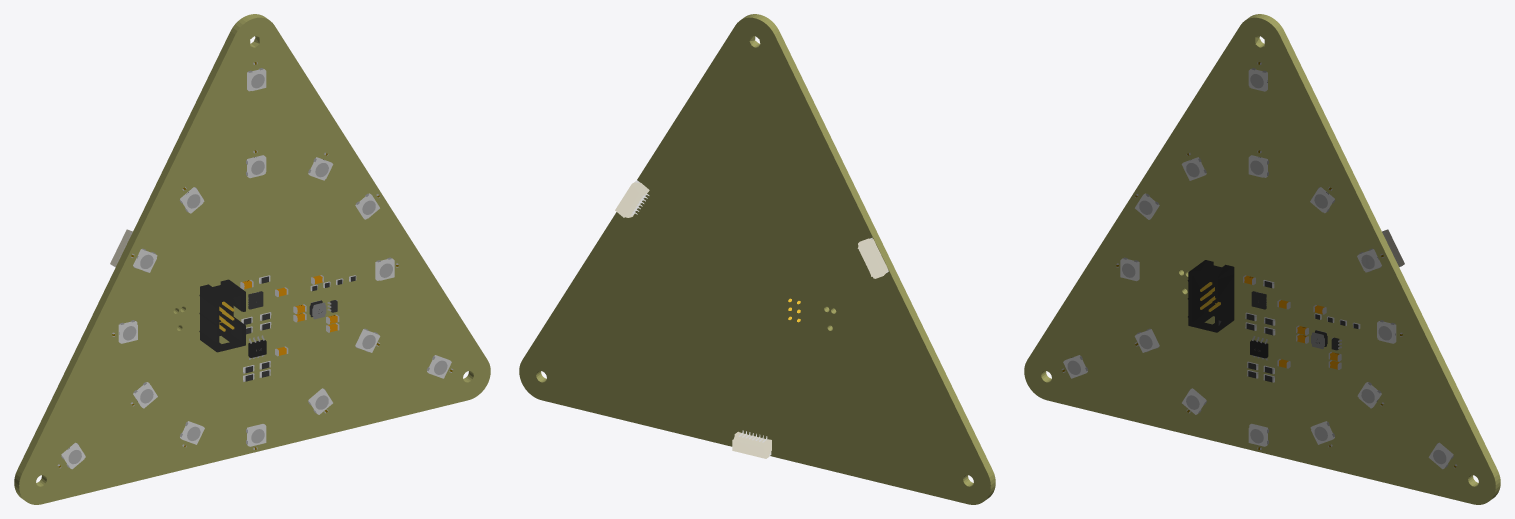
Rendered from OBJ_PCB_LightTriangles.obj.
3 renders of one model, left to right at view 1: azimuth 30°, elevation 25°; view 2: azimuth 150°, elevation 25°; view 3: azimuth 330°, elevation 25°, orthographic.
Bounding box in the file's own units: 550 × 484 × 55.59.
